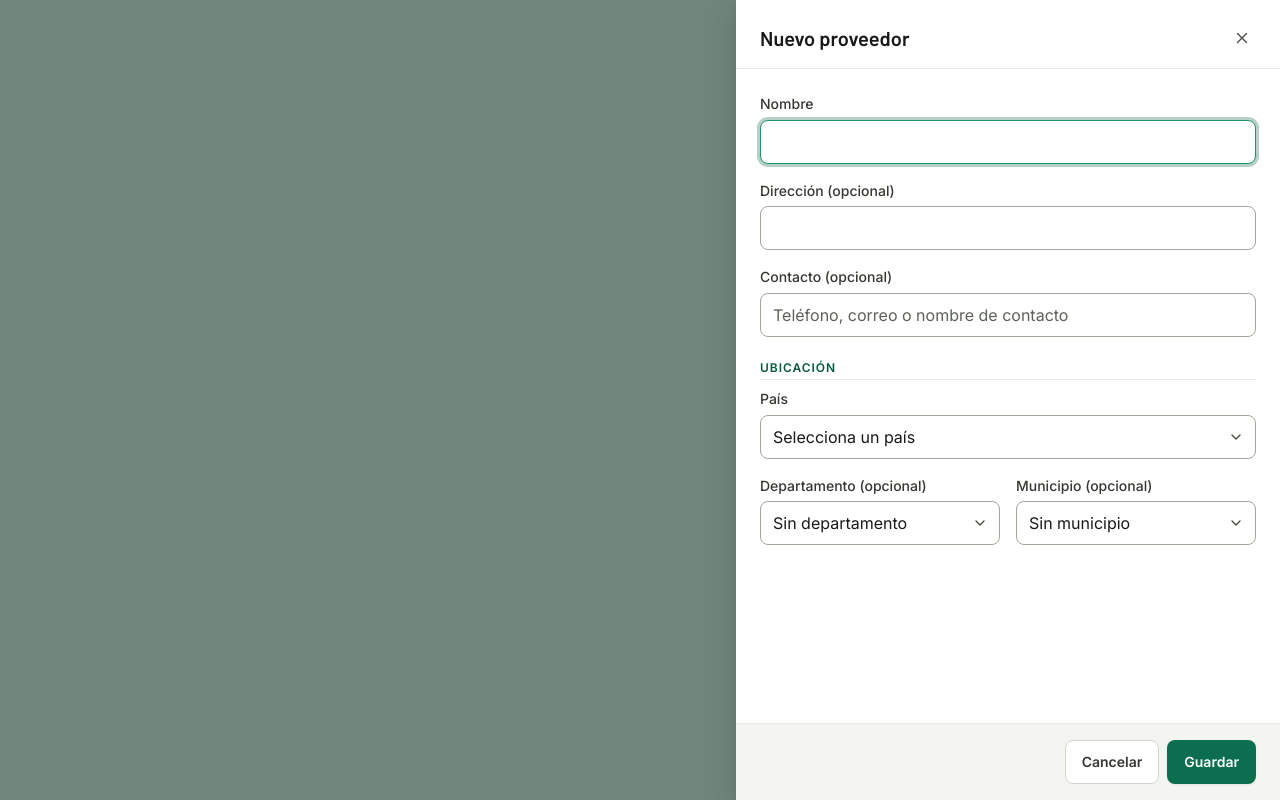
ProveedorFormModal › no envía el formulario si no se eligió país
The width and height of the screenshot is (1280, 800).
Type "Repuestos Guate S.A." into the field labelled "Nombre" at (1008, 142), box [760,120,1256,164]
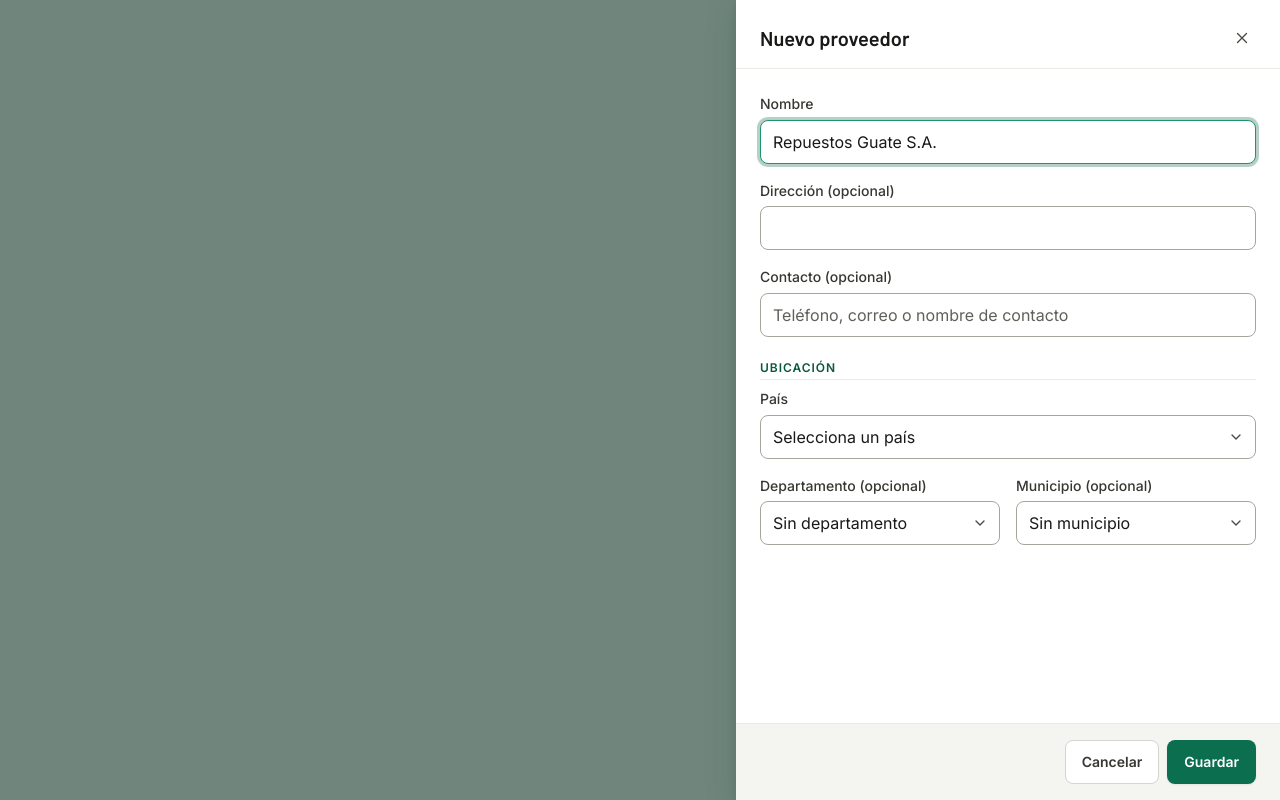
Click the button "Guardar" at (1212, 762), box [1167,740,1256,784]
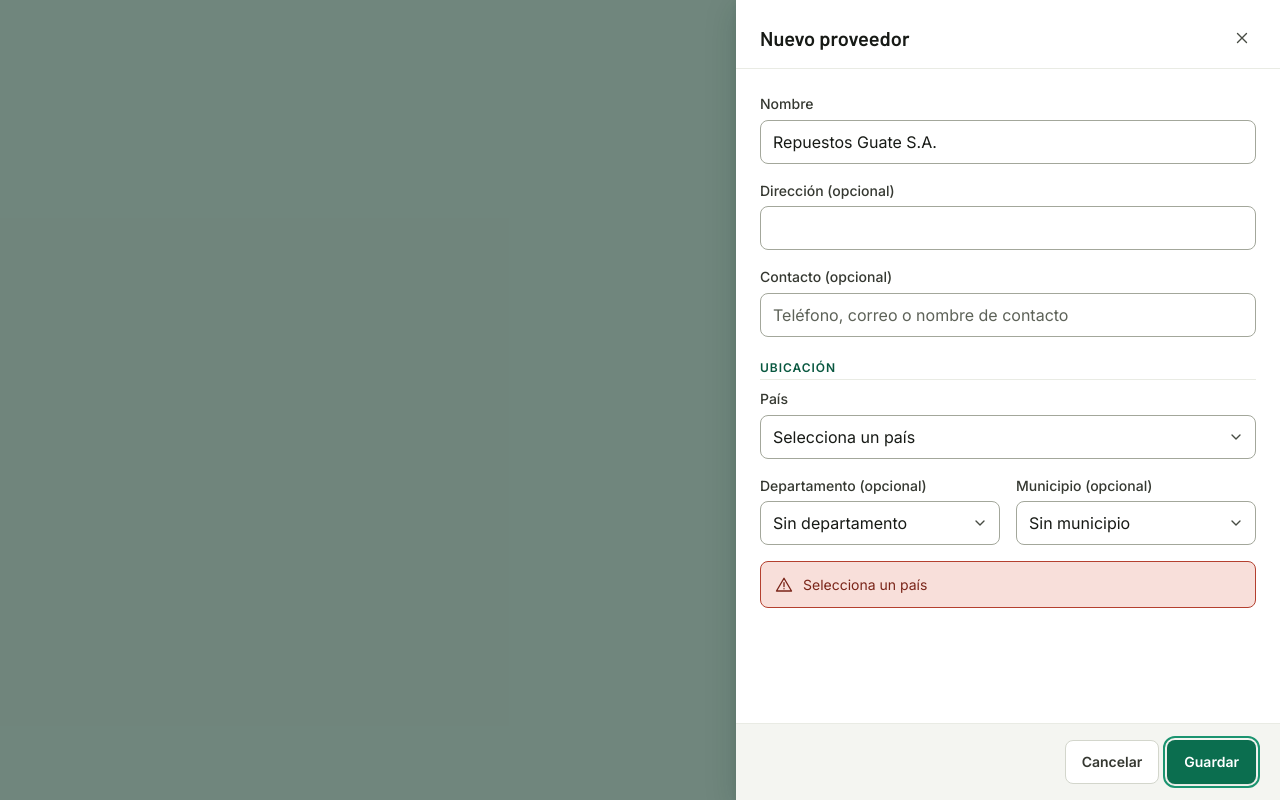
Now the message reads "Selecciona un país", box [803,576,927,593]
